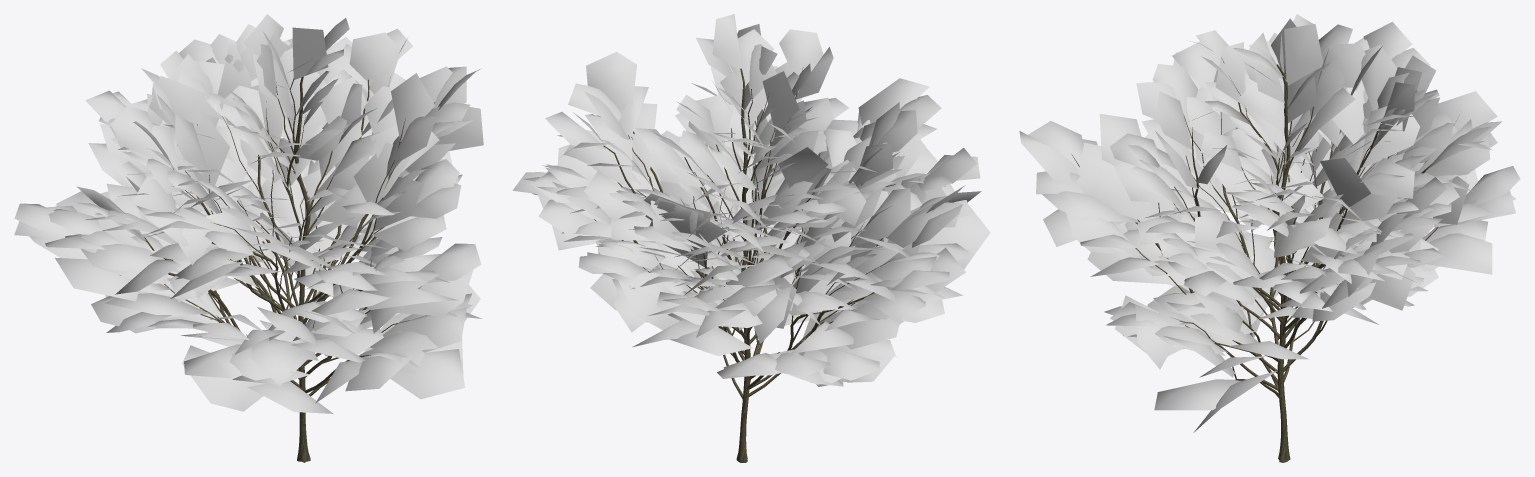
Rendered from Tree - Alien Tree Small 07 2-DLwXQYQS.glb.
3 renders of one model, left to right at view 1: azimuth 30°, elevation 25°; view 2: azimuth 150°, elevation 25°; view 3: azimuth 270°, elevation 25°, orthographic. The views are drawn at different scales.
Visible parts, largest first — view 1: Tree_Sm_07_2_L0(Clone); view 2: Tree_Sm_07_2_L0(Clone); view 3: Tree_Sm_07_2_L0(Clone).
Boxes of the visible parts, x1,y1,x2,y2 form: Tree_Sm_07_2_L0(Clone): [14, 14, 483, 462]; Tree_Sm_07_2_L0(Clone): [512, 14, 990, 462]; Tree_Sm_07_2_L0(Clone): [1019, 14, 1520, 462].
Size of the model in its own units: 5.97 by 5.69 by 5.91.
2 materials, 1 textured.
